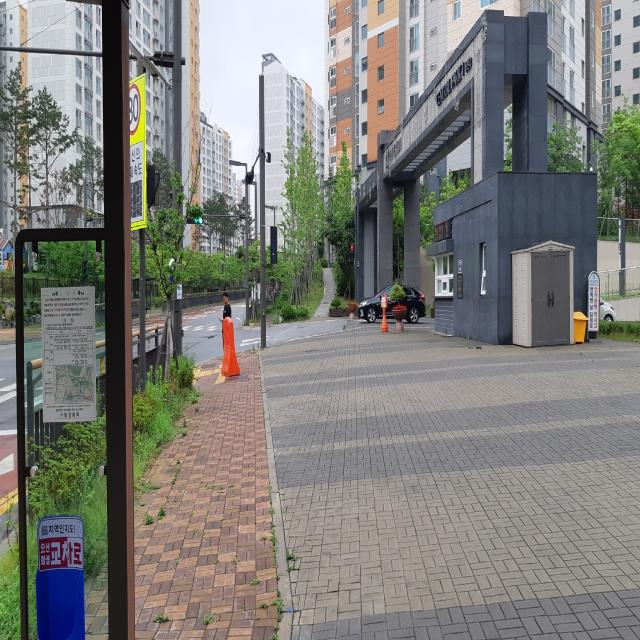빨간불: (349, 244, 355, 268)
